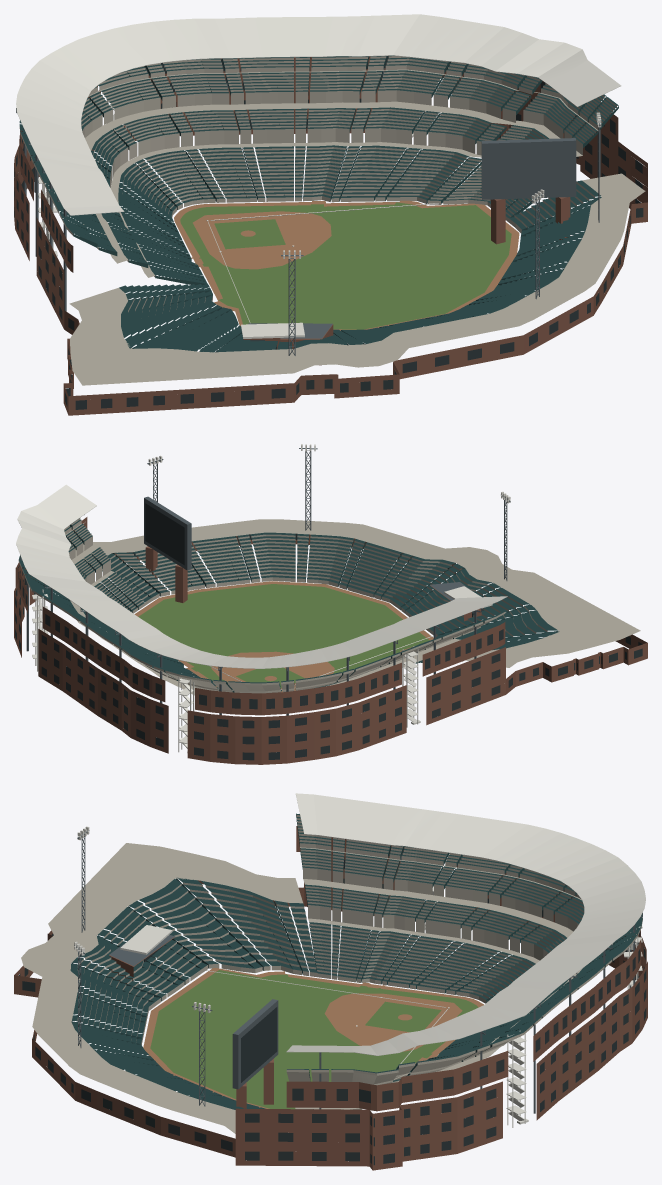
Rendered from truist-park-near.glb.
3 renders of one model, top to bottom at view 1: azimuth 30°, elevation 25°; view 2: azimuth 150°, elevation 25°; view 3: azimuth 270°, elevation 25°, orthographic. The views are drawn at different scales.
Visible parts, largest first — view 1: truist-park-0-concrete, truist-park-0-seat, truist-park-0-roof, truist-park-0-grass, truist-park-0-brick, truist-park-0-steel, truist-park-0-dirt, truist-park-0-glow; view 2: truist-park-0-brick, truist-park-0-concrete, truist-park-0-seat, truist-park-0-roof, truist-park-0-grass, truist-park-0-glow, truist-park-0-steel, truist-park-0-dirt; view 3: truist-park-0-concrete, truist-park-0-seat, truist-park-0-brick, truist-park-0-roof, truist-park-0-grass, truist-park-0-glow, truist-park-0-dirt, truist-park-0-steel.
Boxes of the visible parts, x1,y1,x2,y2 form: truist-park-0-concrete: [19, 56, 645, 385]; truist-park-0-seat: [19, 55, 618, 352]; truist-park-0-roof: [16, 14, 621, 338]; truist-park-0-grass: [180, 202, 511, 329]; truist-park-0-brick: [14, 55, 647, 415]; truist-park-0-steel: [16, 56, 600, 355]; truist-park-0-dirt: [174, 200, 519, 330]; truist-park-0-glow: [14, 56, 643, 409]; truist-park-0-brick: [14, 517, 647, 764]; truist-park-0-concrete: [18, 518, 640, 695]; truist-park-0-seat: [19, 518, 559, 692]; truist-park-0-roof: [16, 444, 510, 752]; truist-park-0-grass: [138, 584, 429, 688]; truist-park-0-glow: [15, 503, 642, 760]; truist-park-0-steel: [20, 448, 510, 715]; truist-park-0-dirt: [134, 581, 433, 692]; truist-park-0-concrete: [21, 815, 642, 1133]; truist-park-0-seat: [70, 813, 642, 1109]; truist-park-0-brick: [14, 826, 647, 1170]; truist-park-0-roof: [74, 793, 645, 1127]; truist-park-0-grass: [150, 970, 478, 1109]; truist-park-0-glow: [18, 846, 646, 1165]; truist-park-0-dirt: [143, 968, 483, 1108]; truist-park-0-steel: [74, 830, 642, 1113].
Bounding box in the file's own units: 276 × 55 × 243.
